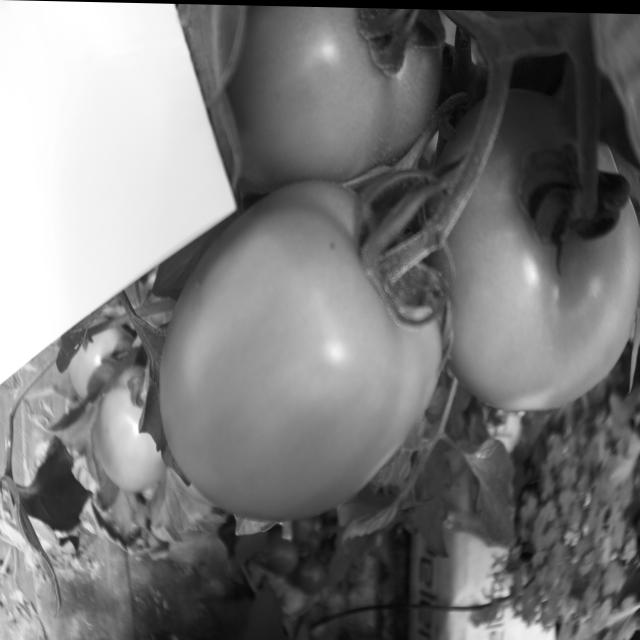yesil: (236, 4, 640, 404)
